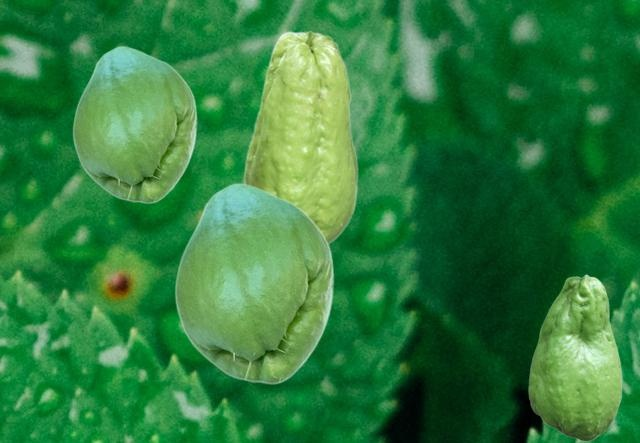sayote: (174, 183, 333, 384), (243, 30, 358, 244), (72, 46, 196, 203), (528, 274, 621, 440)
